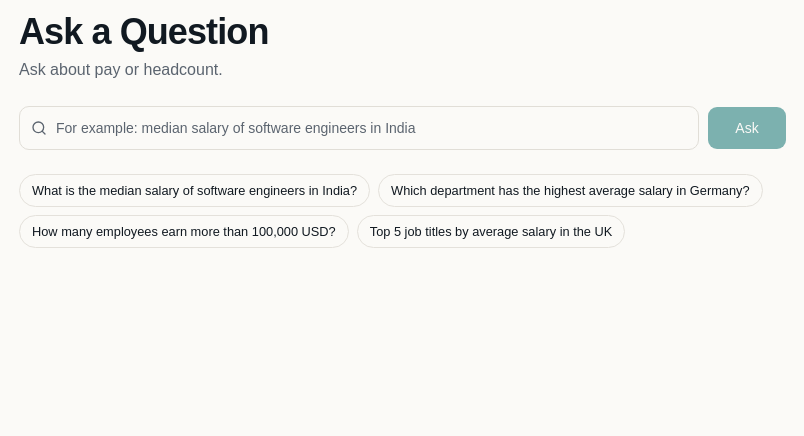
Test: asking › shows each row of a grouped answer with its own value
The width and height of the screenshot is (804, 436).
In the field named "Your question": [359, 128] box top-left (19, 106), bottom-right (699, 150), type "headcount by country"
Then press Enter
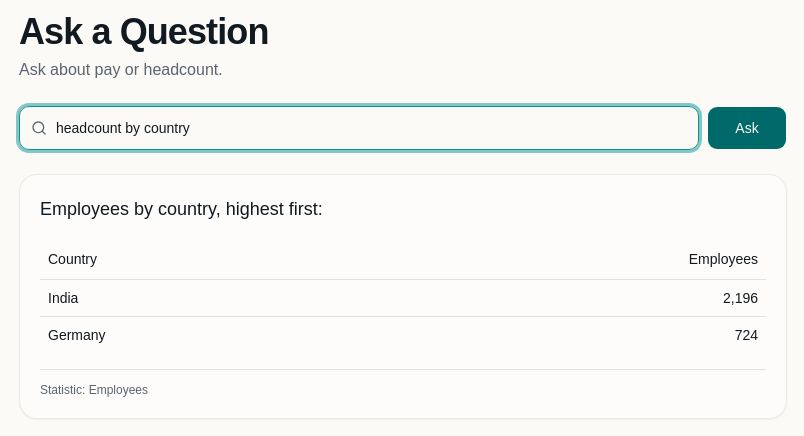
expect the row "India 2,196" is shown: met, box top-left (40, 279), bottom-right (766, 316)
expect the row "Germany 724" is shown: met, box top-left (40, 316), bottom-right (766, 352)
